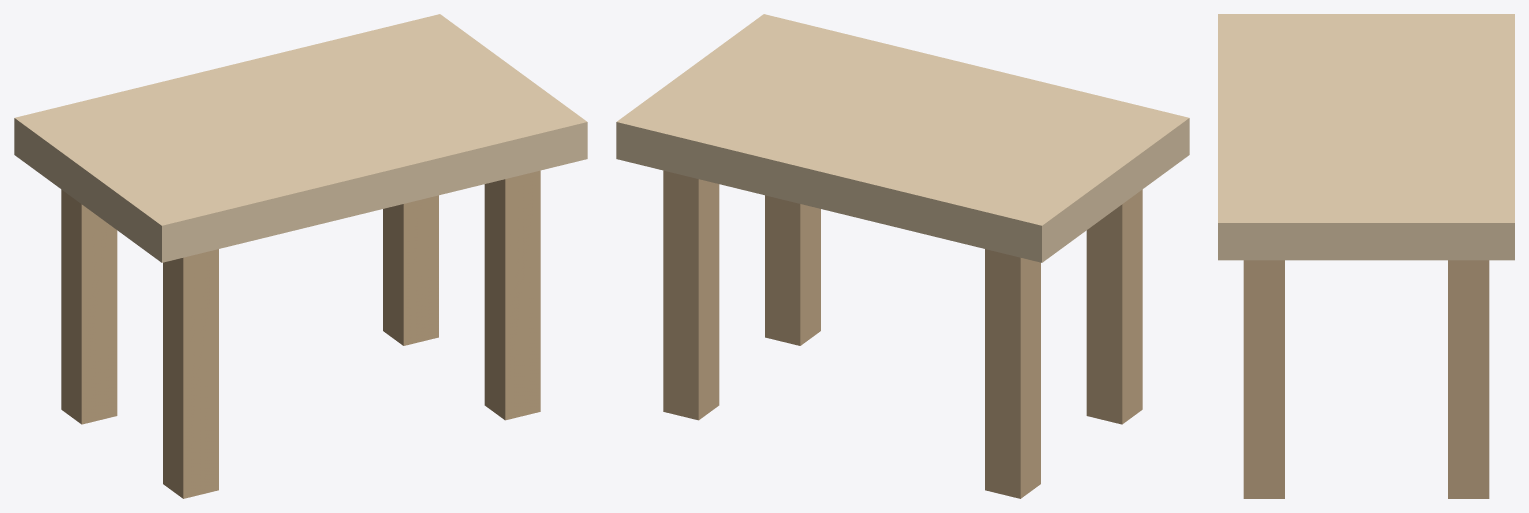
The model's file is kids_table.glb.
3 renders of one model, left to right at view 1: azimuth 30°, elevation 25°; view 2: azimuth 150°, elevation 25°; view 3: azimuth 270°, elevation 25°, orthographic.
Visible parts, largest first — view 1: kids_table_oak_light_0, kids_table_oak_4, kids_table_oak_2, kids_table_oak_1, kids_table_oak_3; view 2: kids_table_oak_light_0, kids_table_oak_3, kids_table_oak_1, kids_table_oak_2, kids_table_oak_4; view 3: kids_table_oak_light_0, kids_table_oak_3, kids_table_oak_4.
Part boxes in pixels (bbox=[...]): kids_table_oak_light_0: bbox=[14, 14, 587, 262]; kids_table_oak_4: bbox=[484, 170, 540, 420]; kids_table_oak_2: bbox=[163, 249, 218, 498]; kids_table_oak_1: bbox=[61, 189, 117, 424]; kids_table_oak_3: bbox=[383, 195, 438, 345]; kids_table_oak_light_0: bbox=[616, 14, 1189, 262]; kids_table_oak_3: bbox=[663, 170, 719, 420]; kids_table_oak_1: bbox=[985, 249, 1040, 498]; kids_table_oak_2: bbox=[1086, 189, 1142, 424]; kids_table_oak_4: bbox=[765, 195, 820, 345]; kids_table_oak_light_0: bbox=[1218, 14, 1514, 260]; kids_table_oak_3: bbox=[1448, 260, 1489, 498]; kids_table_oak_4: bbox=[1243, 260, 1284, 498].
Bounding box in the file's own units: 0.9 × 0.5875 × 0.54.
